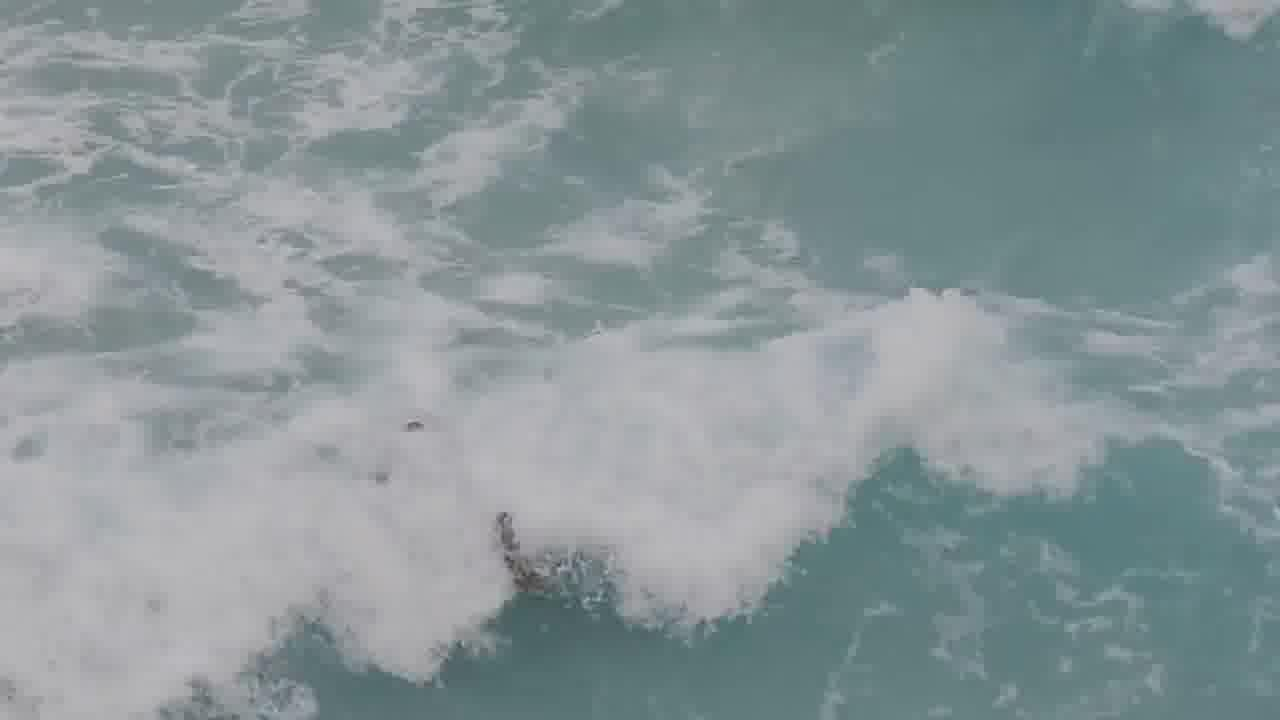swimmer: (491, 509, 550, 585)
